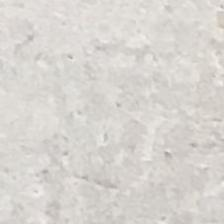Non_Crack: (23, 23, 200, 184)
